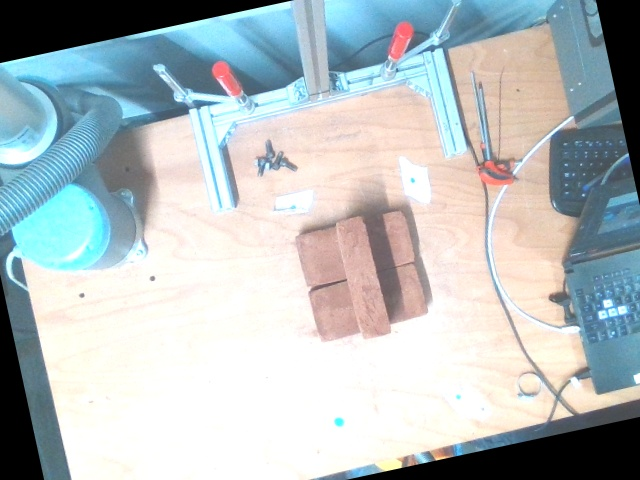brick-side: (334, 216, 393, 341)
